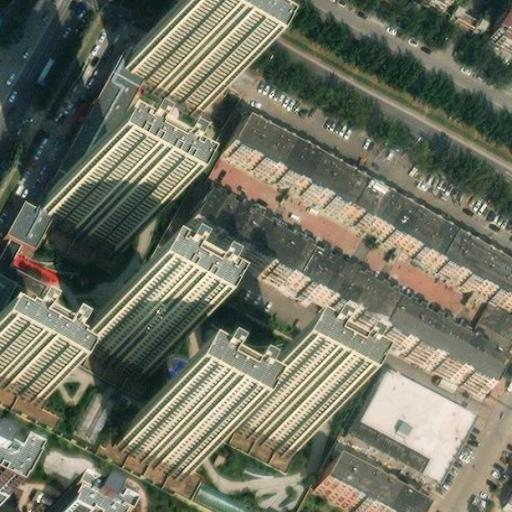building: (350, 359, 477, 476), (56, 37, 142, 190), (227, 121, 362, 215), (193, 193, 314, 282), (383, 297, 501, 384), (347, 186, 454, 264), (0, 193, 61, 328), (297, 250, 401, 329), (125, 37, 216, 105), (44, 178, 135, 244), (324, 455, 422, 512), (124, 404, 206, 469), (86, 301, 168, 366), (438, 235, 512, 303), (233, 381, 310, 443), (48, 478, 130, 512), (468, 292, 512, 355), (0, 420, 35, 494), (487, 8, 512, 49), (501, 477, 512, 503)
